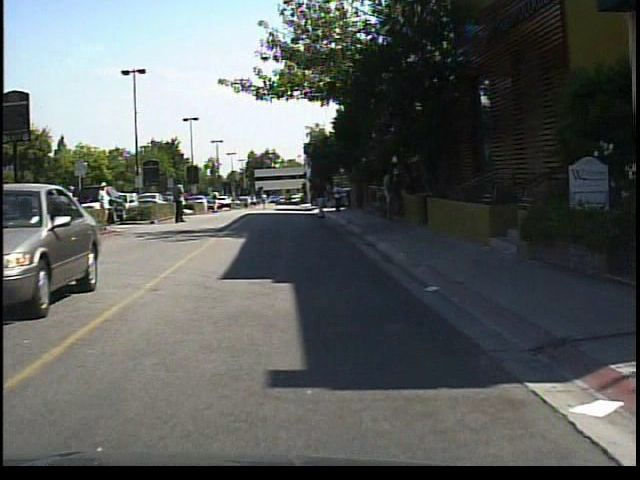person: (380, 158, 405, 227), (312, 167, 338, 221), (168, 173, 192, 226), (95, 176, 118, 227), (395, 164, 414, 219), (62, 180, 82, 231), (331, 176, 348, 216), (209, 186, 225, 215), (259, 189, 274, 212)
